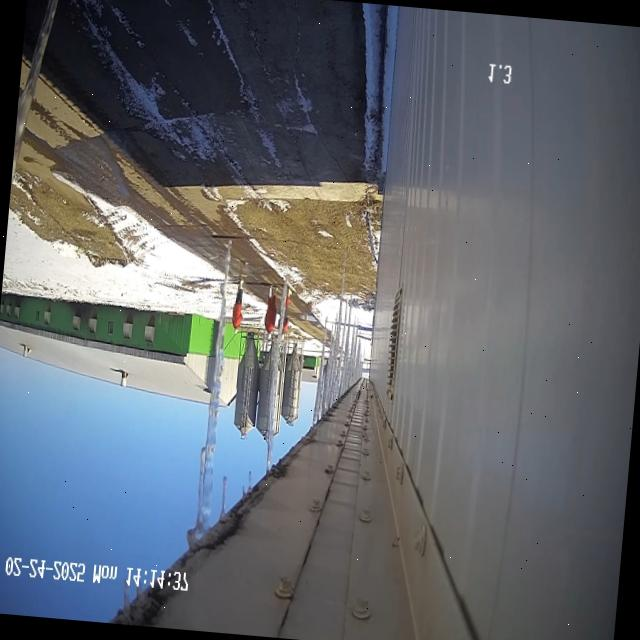Red uniform: (264, 286, 276, 336), (232, 280, 243, 332), (282, 315, 289, 335), (285, 296, 290, 312)
